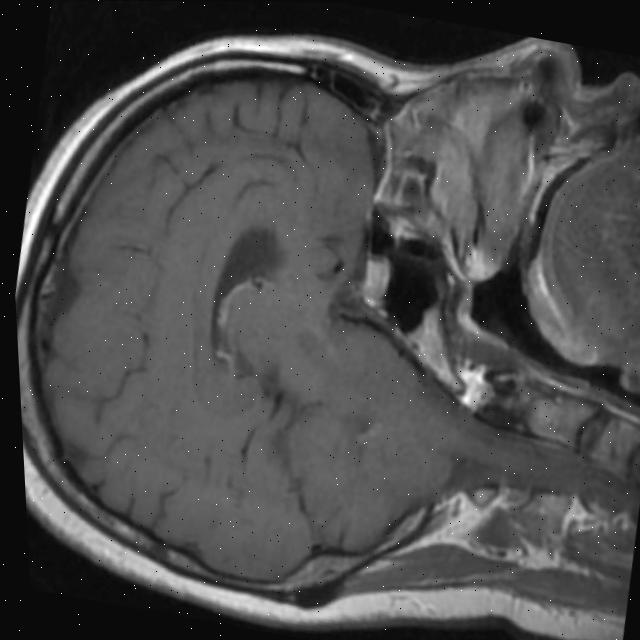Pituitary: (351, 253, 397, 314)
